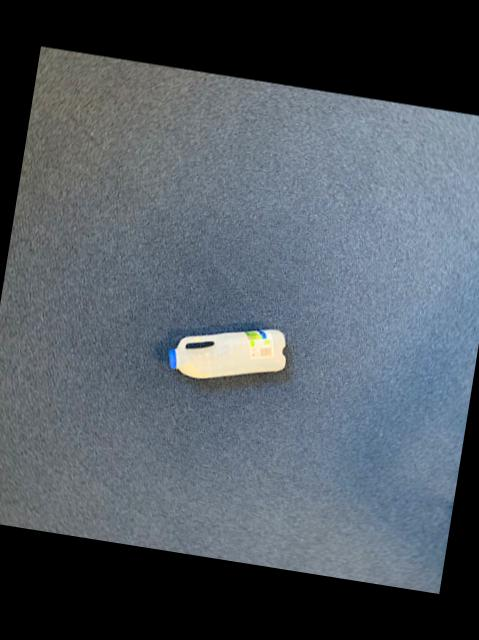plastic: (170, 331, 286, 379)
